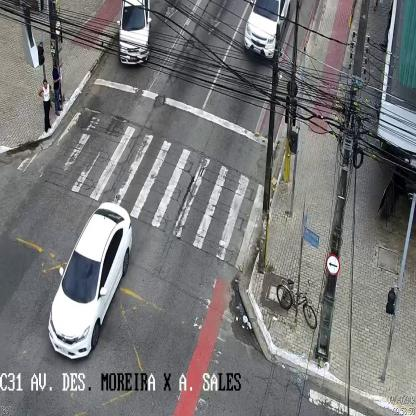bicycle: (276, 275, 317, 329)
car: (48, 201, 133, 358), (242, 0, 294, 61), (116, 0, 154, 66)
person: (38, 78, 56, 132)
